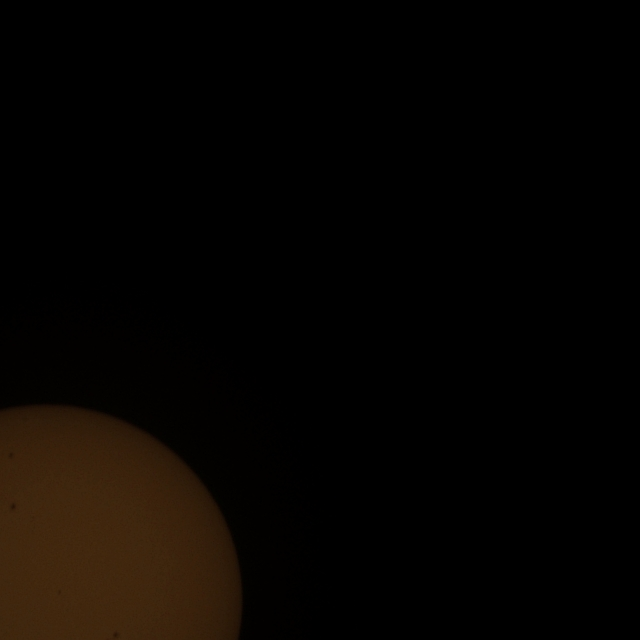sunspot: (111, 631, 121, 640), (10, 502, 17, 511), (8, 451, 14, 459), (57, 589, 62, 596)
